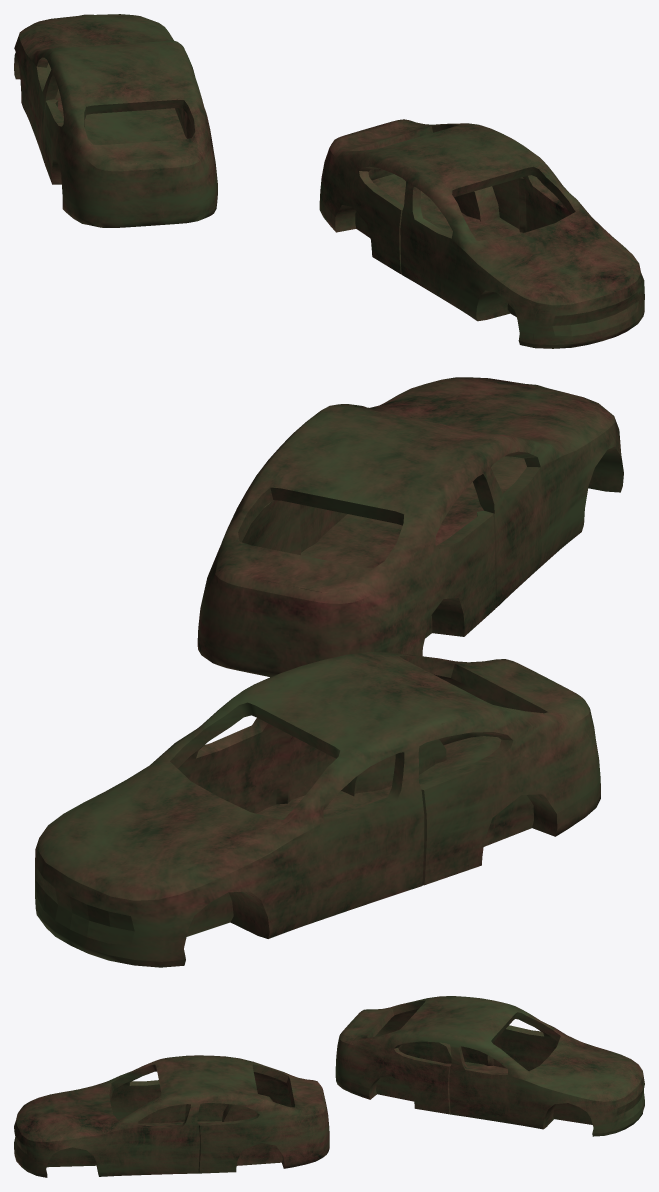
The model's file is Car_1.fbx.
The picture shows the model from 3 angles, top to bottom: view 1: azimuth 30°, elevation 25°; view 2: azimuth 150°, elevation 25°; view 3: azimuth 270°, elevation 25°; orthographic projection. The views are drawn at different scales.
Visible parts, largest first — view 1: city.001; view 2: city.001; view 3: city.001.
Boxes of the visible parts, left/top/right/bottom form: city.001: left=14, top=14, right=644, bottom=348; city.001: left=35, top=377, right=623, bottom=967; city.001: left=14, top=996, right=644, bottom=1177.
Size of the model in its own units: 188 by 53.43 by 402.
